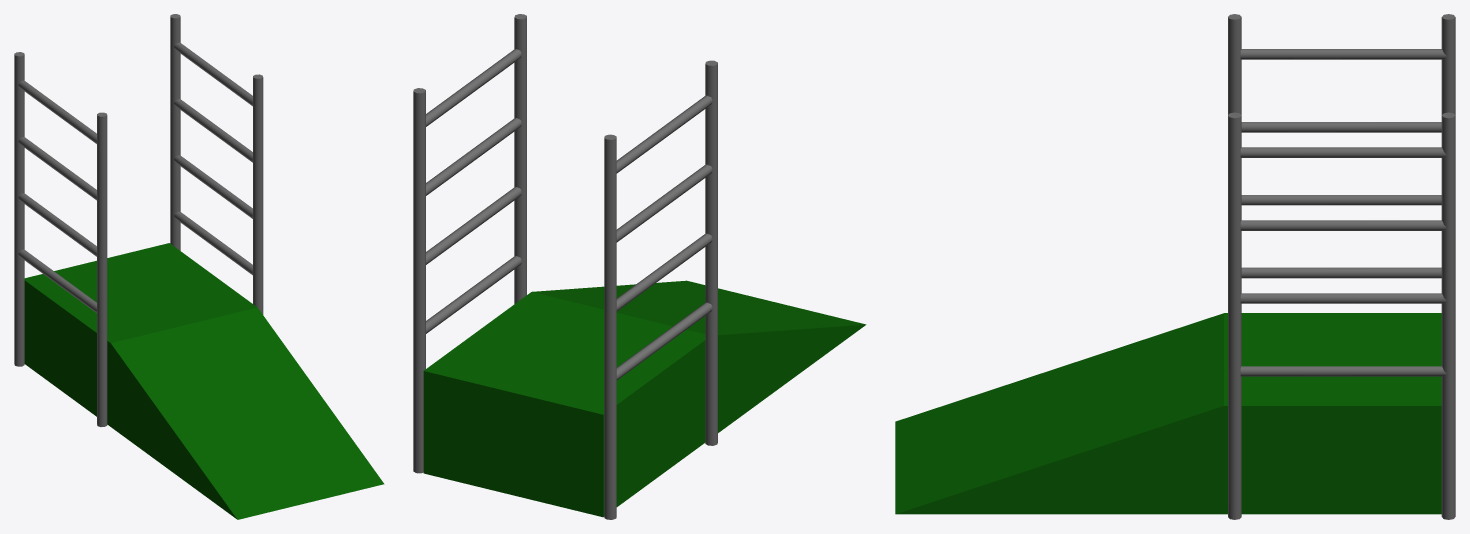
Rendered from Start_point.fbx.
The picture shows the model from 3 angles, left to right: view 1: azimuth 30°, elevation 25°; view 2: azimuth 150°, elevation 25°; view 3: azimuth 270°, elevation 25°; orthographic projection. The views are drawn at different scales.
Visible parts, largest first — view 1: Cube; view 2: Cube; view 3: Cube.
Boxes of the visible parts, bbox=[...] form: Cube: bbox=[14, 14, 384, 519]; Cube: bbox=[413, 14, 866, 519]; Cube: bbox=[895, 14, 1455, 519].
Size of the model in its own units: 153 by 276 by 348.
